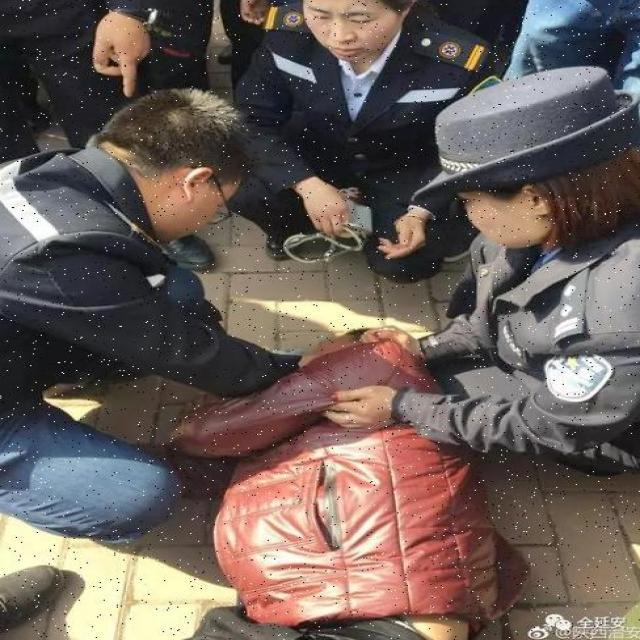fall: (195, 324, 508, 639)
